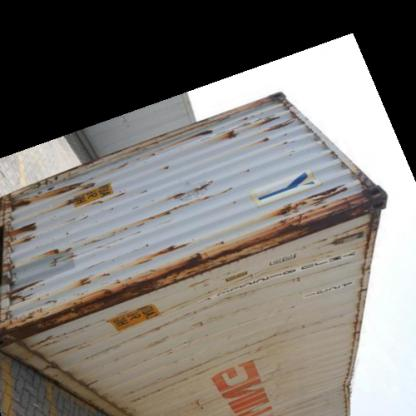Damage: (91, 237, 226, 317), (272, 178, 374, 244), (214, 112, 314, 145), (9, 308, 77, 354), (44, 176, 125, 214), (164, 177, 244, 209), (5, 269, 43, 305), (336, 362, 358, 412), (46, 243, 82, 267), (9, 215, 37, 244)
